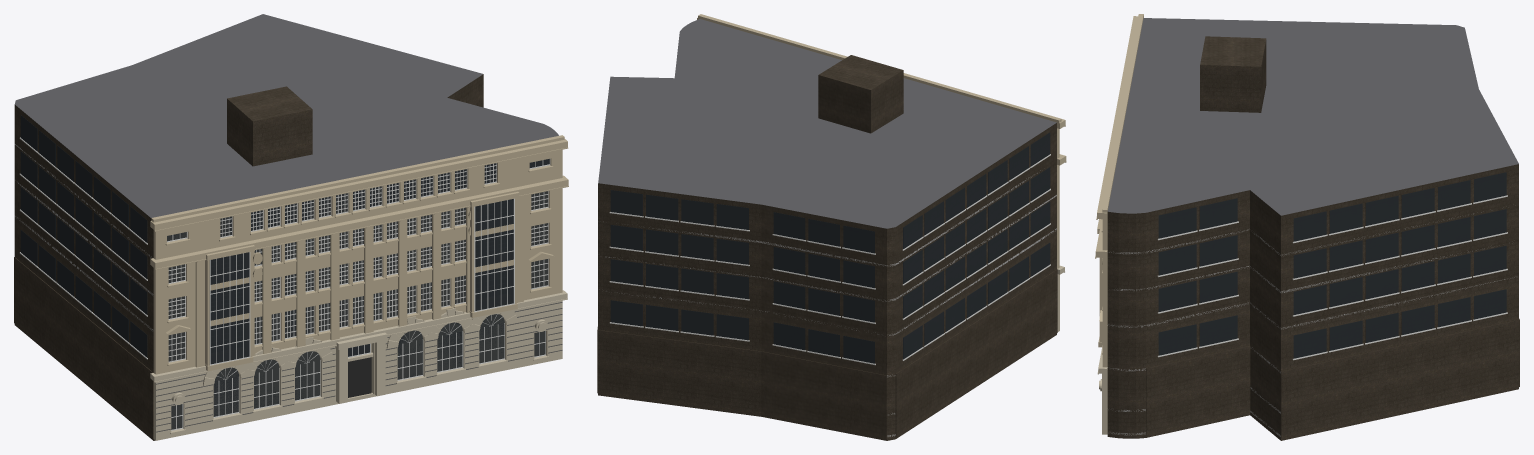
Rendered from barclay_hero_mobile.glb.
3 renders of one model, left to right at view 1: azimuth 30°, elevation 25°; view 2: azimuth 150°, elevation 25°; view 3: azimuth 270°, elevation 25°, orthographic. The views are drawn at different scales.
Visible parts, largest first — view 1: HERO_body, HERO_oriel_base, HERO_cartouche, Window_03_glass, Window_01_glass, Cornice, Window_02_glass, Window_05_glass, Window_04_glass, Window_03_frame, HERO_cornice_001, HERO_voussoir_024 (+6 smaller); view 2: HERO_body, Window_02_glass, Window_03_glass, Window_04_glass, Window_05_glass, Cornice, Window_02_frame, Window_04_frame, Window_05_frame, Window_03_frame, Floor_05, Floor_04; view 3: HERO_body, Window_04_glass, Window_03_glass, Window_05_glass, Window_02_glass, Cornice, HERO_oriel_base, Window_04_frame, Window_03_frame, Window_02_frame, Window_05_frame, HERO_cartouche (+2 smaller).
Part boxes in pixels (x1,y1,x2,y2): HERO_body: (14,14,558,440); HERO_oriel_base: (153,149,562,374); HERO_cartouche: (150,290,567,440); Window_03_glass: (20,187,547,364); Window_01_glass: (171,314,545,429); Cornice: (150,135,568,245); Window_02_glass: (20,230,547,361); Window_05_glass: (20,115,549,242); Window_04_glass: (20,151,547,282); Window_03_frame: (19,198,548,365); HERO_cornice_001: (150,175,568,287); HERO_voussoir_024: (203,308,517,403); HERO_body: (597,19,1057,440); Window_02_glass: (610,243,1050,363); Window_03_glass: (610,201,1050,322); Window_04_glass: (610,167,1050,288); Window_05_glass: (610,132,1050,253); Cornice: (697,14,1065,128); Window_02_frame: (609,264,1050,365); Window_04_frame: (609,188,1050,289); Window_05_frame: (609,154,1050,254); Window_03_frame: (609,223,1050,323); Floor_05: (603,170,1040,266); Floor_04: (605,195,1056,301); HERO_body: (1107,18,1519,440); Window_04_glass: (1158,209,1506,278); Window_03_glass: (1158,245,1506,314); Window_05_glass: (1158,172,1506,241); Window_02_glass: (1158,289,1506,358); Cornice: (1096,14,1143,232); HERO_oriel_base: (1097,219,1107,367); Window_04_frame: (1157,232,1507,280); Window_03_frame: (1157,268,1507,316); Window_02_frame: (1157,312,1507,360); Window_05_frame: (1157,195,1507,243); HERO_cartouche: (1097,345,1107,434).
Bounding box in the file's own units: 38.64 × 24.43 × 34.67.
Materials: 9 (1 with a texture image).
